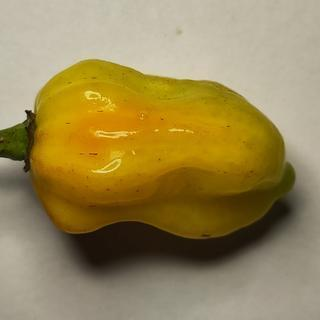Grade-A: (18, 49, 299, 244)
